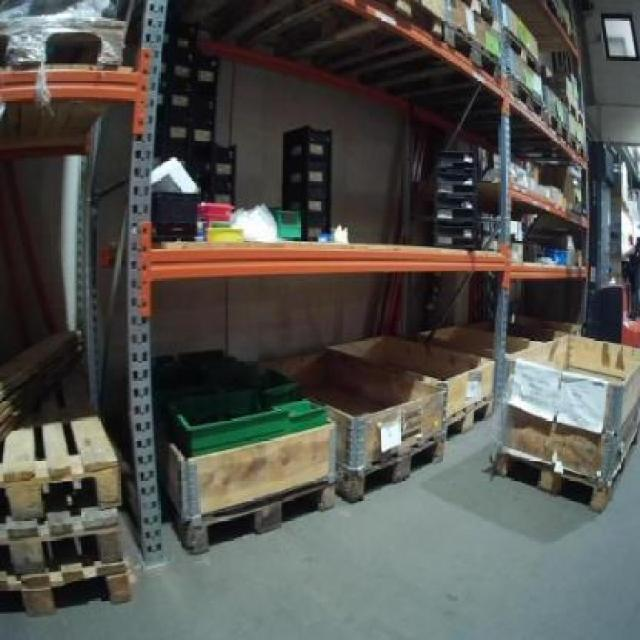pallet: (174, 452, 349, 568), (0, 395, 124, 523), (484, 438, 632, 523), (0, 491, 135, 574), (0, 547, 151, 619), (338, 422, 449, 509), (438, 12, 507, 92), (436, 382, 499, 444), (503, 69, 550, 133), (502, 23, 541, 79)
